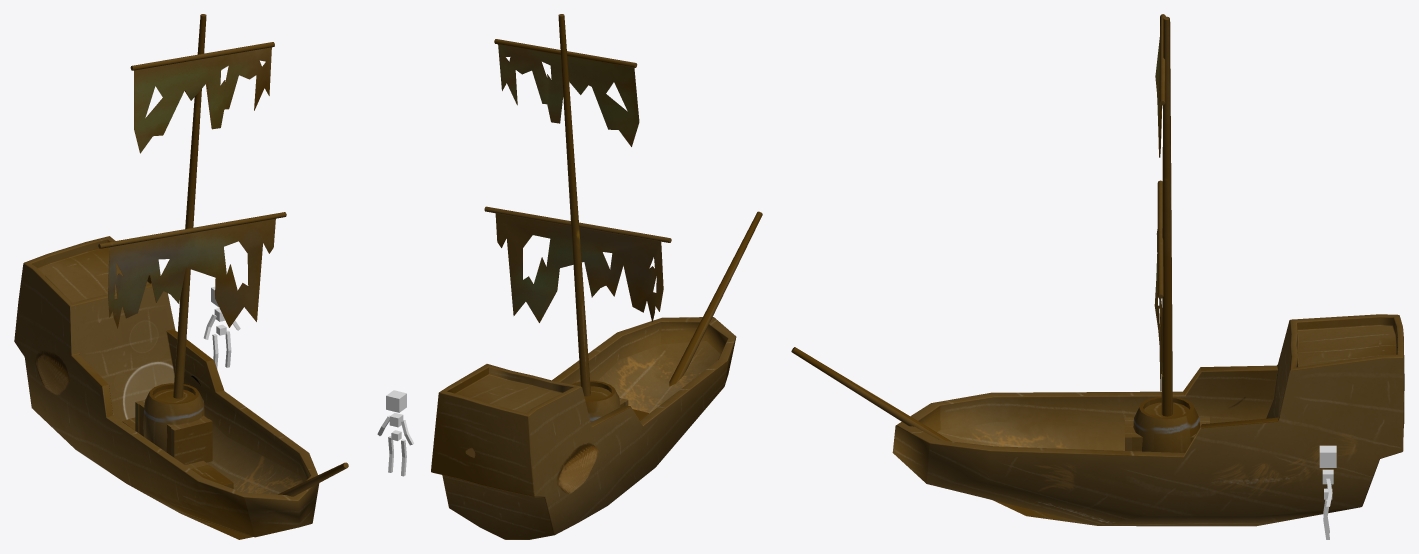
Rendered from Pirate-stuff.fbx.
3 renders of one model, left to right at view 1: azimuth 30°, elevation 25°; view 2: azimuth 150°, elevation 25°; view 3: azimuth 270°, elevation 25°, orthographic. The views are drawn at different scales.
Visible parts, largest first — view 1: Ship, Barrel, Box, Cube, Board_02; view 2: Ship, Cube, Barrel; view 3: Ship, Barrel, Cube.
Boxes of the visible parts, x1,y1,x2,y2 form: Ship: [14, 14, 348, 539]; Barrel: [143, 383, 204, 452]; Box: [135, 400, 212, 464]; Cube: [203, 286, 240, 368]; Board_02: [122, 417, 233, 488]; Ship: [431, 14, 762, 539]; Cube: [377, 390, 413, 476]; Barrel: [572, 380, 620, 421]; Ship: [791, 14, 1404, 526]; Barrel: [1133, 396, 1199, 452]; Cube: [1319, 445, 1336, 539].
Bounding box in the file's own units: 505 × 1051 × 1132.
